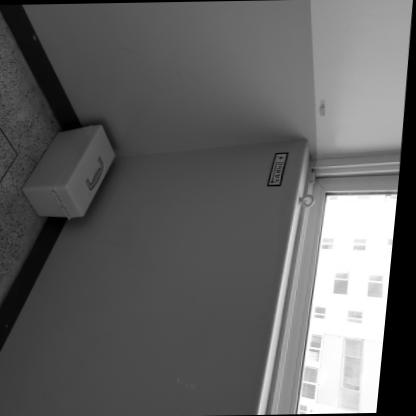DDL: (22, 122, 122, 218)
